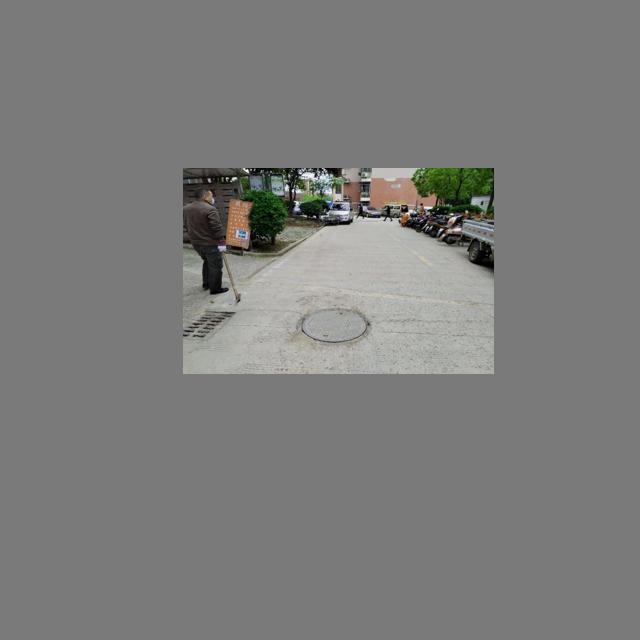good: (296, 307, 371, 344)
